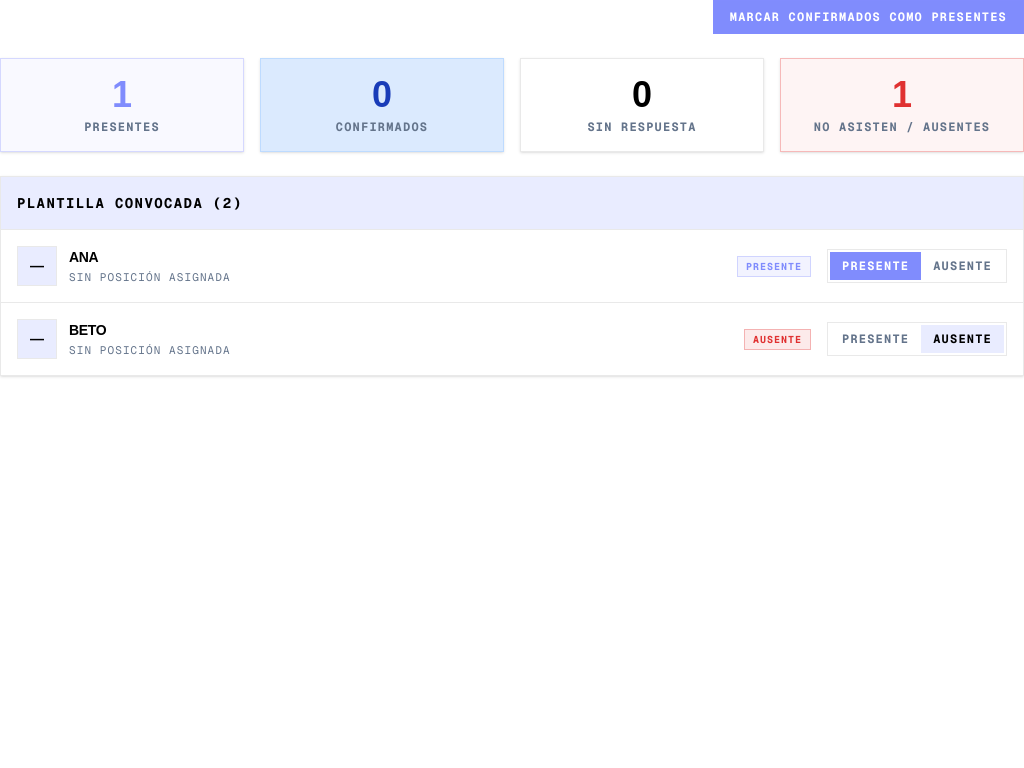
it: AttendanceBoard — marcar confirmados como presentes › el botón del modal queda deshabilitado mientras la petición está en curso
Click the button "Marcar confirmados como presentes".
click(868, 17)  # box [713, 0, 1023, 34]
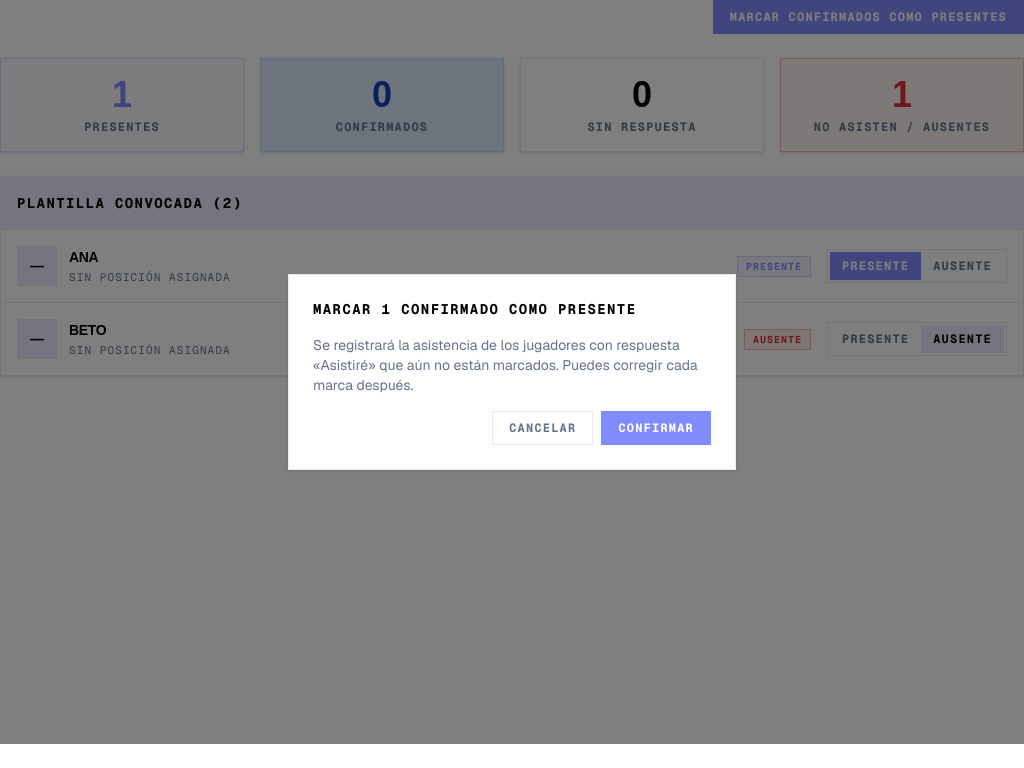
Click the button "Confirmar".
click(656, 428)  # box [601, 411, 711, 445]
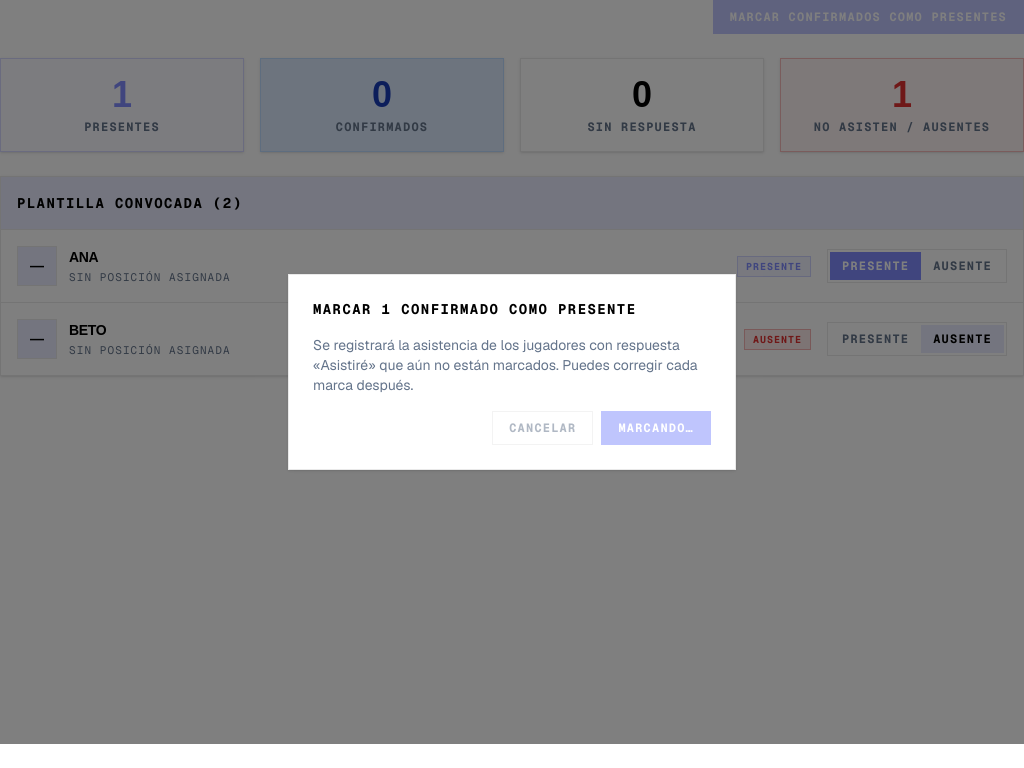
Expected: the button "Marcando…" is disabled, [601, 411, 711, 445]
Expected: the button "Cancelar" is disabled, [492, 411, 593, 445]
